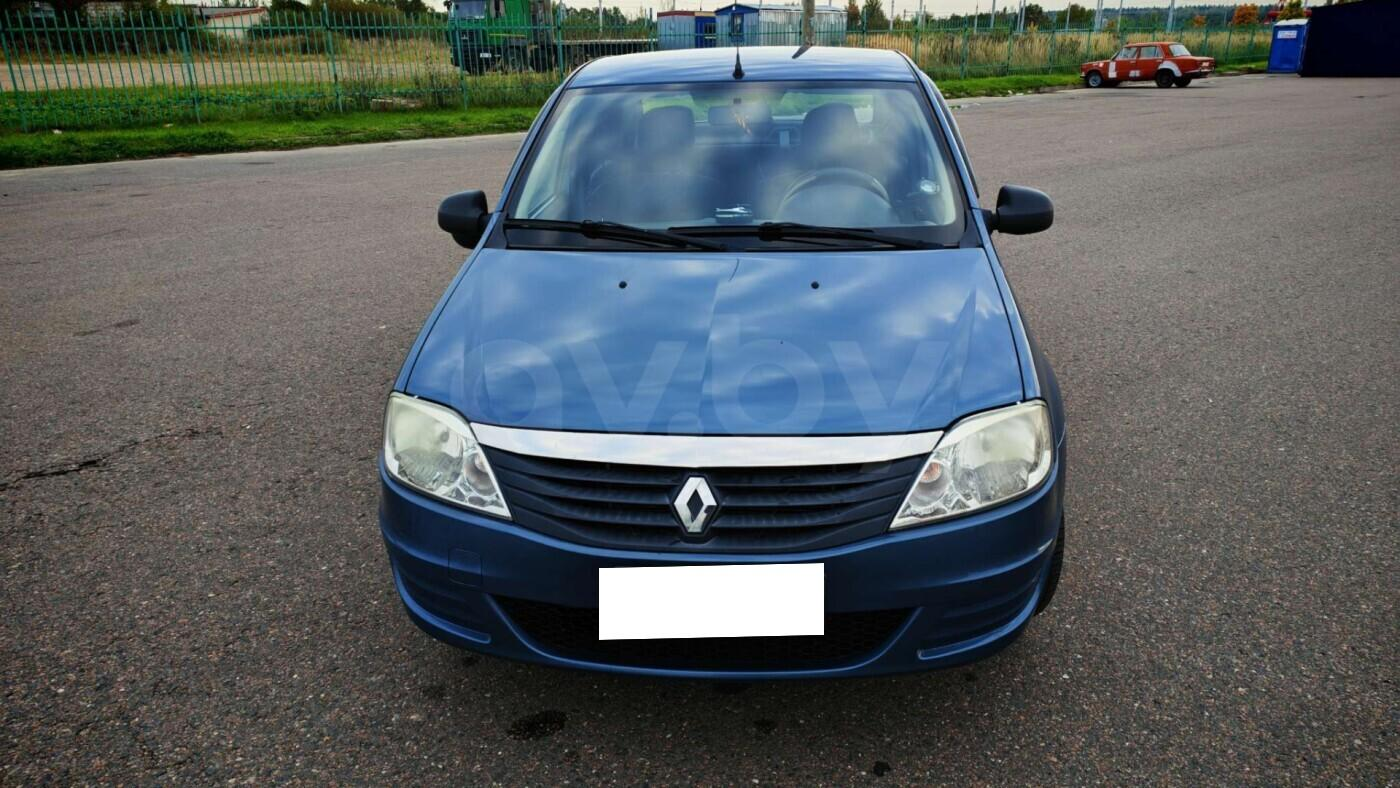Logan_2008-2015: (365, 40, 1082, 700)
